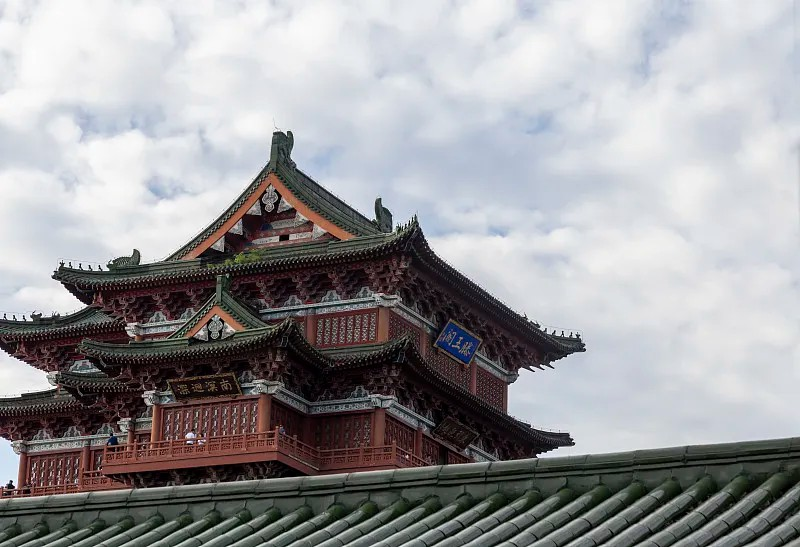Teng: (1, 131, 584, 496)
